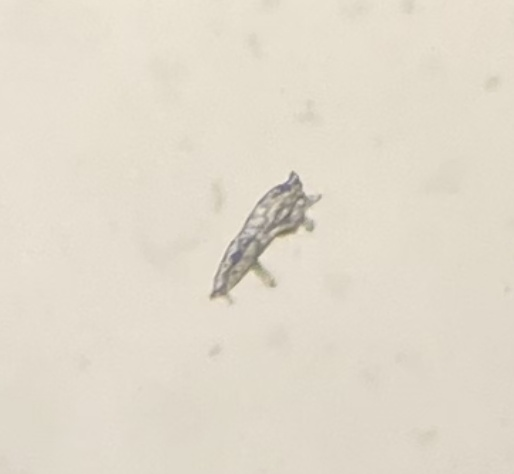microplastic: (207, 171, 322, 302)
